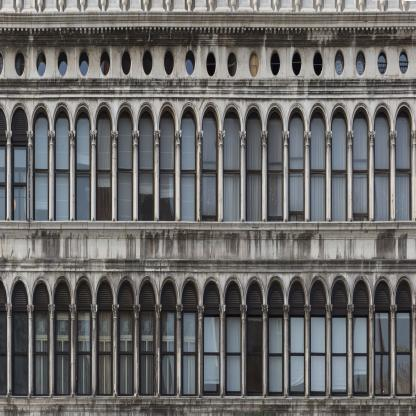Building Outline: (1, 1, 416, 415)
Facade: (1, 1, 416, 415)
Floor: (0, 28, 415, 258), (0, 258, 415, 415)
Floor Slab: (0, 397, 416, 416), (0, 239, 416, 258)
Molding: (0, 77, 416, 98), (0, 257, 416, 272), (0, 21, 416, 34)
Pillar: (5, 302, 13, 396), (154, 303, 162, 396), (325, 303, 333, 396), (261, 303, 269, 396), (368, 130, 376, 223), (282, 304, 290, 396), (389, 130, 397, 222), (153, 129, 161, 221), (325, 130, 333, 222), (174, 130, 182, 221), (68, 130, 76, 221), (26, 130, 34, 221), (112, 303, 119, 396), (176, 303, 183, 396), (304, 303, 311, 396), (240, 303, 247, 396), (133, 303, 140, 396), (91, 303, 98, 396), (69, 303, 76, 396), (48, 303, 55, 396), (347, 303, 354, 396), (390, 304, 397, 396), (197, 304, 204, 396), (219, 304, 226, 396), (27, 304, 34, 396), (218, 129, 225, 221), (304, 130, 311, 222), (239, 130, 246, 222), (261, 130, 268, 222), (369, 304, 376, 396), (347, 130, 354, 221), (196, 130, 203, 221), (5, 130, 12, 221), (282, 130, 289, 221), (132, 130, 139, 221), (90, 130, 97, 221), (48, 130, 55, 221), (111, 131, 118, 221)
Window: (309, 106, 327, 222), (223, 106, 241, 222), (352, 280, 370, 396), (373, 280, 391, 396), (288, 280, 306, 396), (309, 280, 327, 396), (74, 280, 92, 396), (96, 280, 114, 396), (32, 280, 50, 396), (202, 280, 220, 396), (224, 280, 242, 396), (181, 280, 199, 396), (138, 280, 156, 396), (160, 280, 178, 396), (10, 280, 28, 396), (395, 106, 413, 221), (330, 106, 348, 221), (287, 107, 305, 222), (266, 107, 284, 222), (201, 106, 219, 221), (158, 106, 176, 221), (395, 281, 413, 396), (10, 106, 28, 221), (181, 281, 199, 396), (117, 281, 135, 396), (116, 107, 134, 221), (74, 107, 92, 221), (32, 107, 50, 221), (331, 280, 348, 396), (245, 107, 262, 222), (180, 106, 197, 221), (138, 106, 155, 221), (96, 106, 113, 221), (54, 106, 71, 221), (267, 281, 284, 396), (54, 281, 71, 396), (246, 281, 263, 396), (353, 107, 370, 221), (374, 107, 391, 221)
